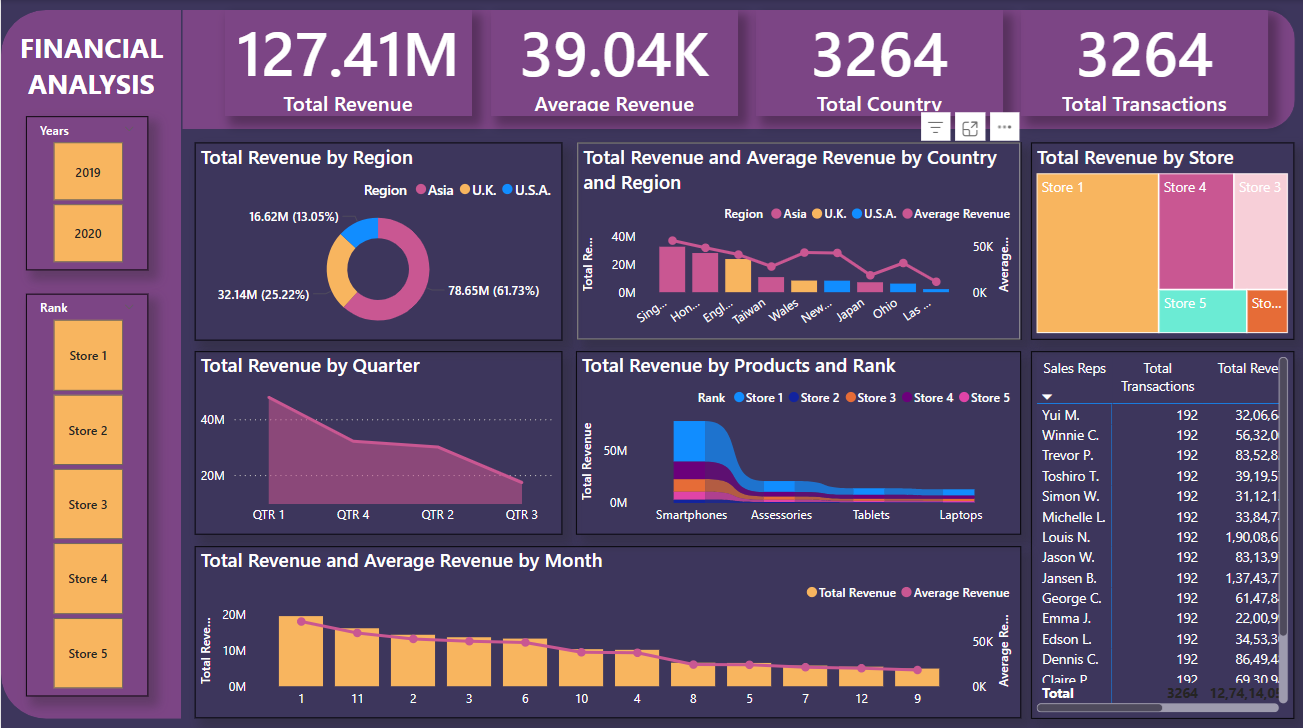

This screenshot's page, from the dashboard's own definition file:
{"tool":"powerbi","page":{"name":"Page 1","canvas":[1280,720],"ordinal":0},"visuals":[{"type":"shape","box":[0,10.1,176.8,695.7],"z":0},{"type":"shape","box":[177.5,10.1,1092.2,116.9],"z":1000},{"type":"card","fields":{"Values":["Measure.Total Revenue"]},"box":[219.3,10.1,242.4,103.9],"z":2000},{"type":"card","fields":{"Values":["Measure.Average Revenue"]},"box":[480.4,10.1,242.4,103.9],"z":3000},{"type":"card","fields":{"Values":["Measure.Total Country"]},"box":[741.6,10.1,242.4,103.9],"z":4000},{"type":"card","fields":{"Values":["Measure.Total Transactions"]},"box":[1001.3,10.1,242.4,103.9],"z":5000},{"type":"donutChart","fields":{"Y":["Measure.Total Revenue"],"Category":["Financial Data.Region"]},"box":[190.4,139.9,360.7,194.8],"z":6000},{"type":"lineStackedColumnComboChart","fields":{"Category":["Financial Data.Country"],"Y":["Measure.Total Revenue"],"Y2":["Measure.Average Revenue"],"Series":["Financial Data.Region"]},"box":[565.6,139.9,435.7,193.3],"z":7000},{"type":"treemap","title":"Total Revenue by Store","fields":{"Values":["Measure.Total Revenue"],"Group":["Financial Data.Rank"]},"box":[1011.4,139.9,258.3,193.3],"z":8000},{"type":"areaChart","fields":{"Y":["Measure.Total Revenue"],"Category":["Financial Data.Quarter"]},"box":[190.4,344.8,360.7,180.3],"z":9000},{"type":"ribbonChart","fields":{"Category":["Financial Data.Products"],"Y":["Measure.Total Revenue"],"Series":["Financial Data.Rank"]},"box":[564.1,344.8,437.2,180.3],"z":10000},{"type":"pivotTable","fields":{"Rows":["Financial Data.Sales Reps"],"Values":["Measure.Total Transactions","Measure.Total Revenue","Measure.Average Revenue"]},"box":[1011.4,344.8,258.3,360.7],"z":11000},{"type":"textbox","box":[0,23.1,177.5,80.8],"z":12000},{"type":"lineStackedColumnComboChart","fields":{"Y":["Measure.Total Revenue"],"Y2":["Measure.Average Revenue"],"Category":["Financial Data.Month"]},"box":[190.4,536.7,810.8,168.8],"z":13000},{"type":"slicer","fields":{"Values":["Financial Data.Years"]},"box":[24.5,114,119.7,151.5],"z":14000},{"type":"slicer","fields":{"Values":["Financial Data.Rank"]},"box":[24.5,288.6,119.7,395.3],"z":15000}]}

Visuals, with their boxes in screenshot pixels (x1, y1, x2, y2), scaled from the page's 1280x720 canvas onto the 1303x728 screenshot:
shape: box(0, 10, 180, 714)
shape: box(181, 10, 1293, 128)
card - Measure.Total Revenue: box(223, 10, 470, 115)
card - Measure.Average Revenue: box(489, 10, 736, 115)
card - Measure.Total Country: box(755, 10, 1002, 115)
card - Measure.Total Transactions: box(1019, 10, 1266, 115)
donutChart - Measure.Total Revenue x Financial Data.Region: box(194, 141, 561, 338)
lineStackedColumnComboChart - Financial Data.Country x Measure.Total Revenue: box(576, 141, 1019, 337)
"Total Revenue by Store" treemap: box(1030, 141, 1293, 337)
areaChart - Measure.Total Revenue x Financial Data.Quarter: box(194, 349, 561, 531)
ribbonChart - Financial Data.Products x Measure.Total Revenue: box(574, 349, 1019, 531)
pivotTable - Financial Data.Sales Reps x Measure.Total Transactions: box(1030, 349, 1293, 713)
textbox: box(0, 23, 181, 105)
lineStackedColumnComboChart - Measure.Total Revenue x Measure.Average Revenue: box(194, 543, 1019, 713)
slicer - Financial Data.Years: box(25, 115, 147, 268)
slicer - Financial Data.Rank: box(25, 292, 147, 691)
